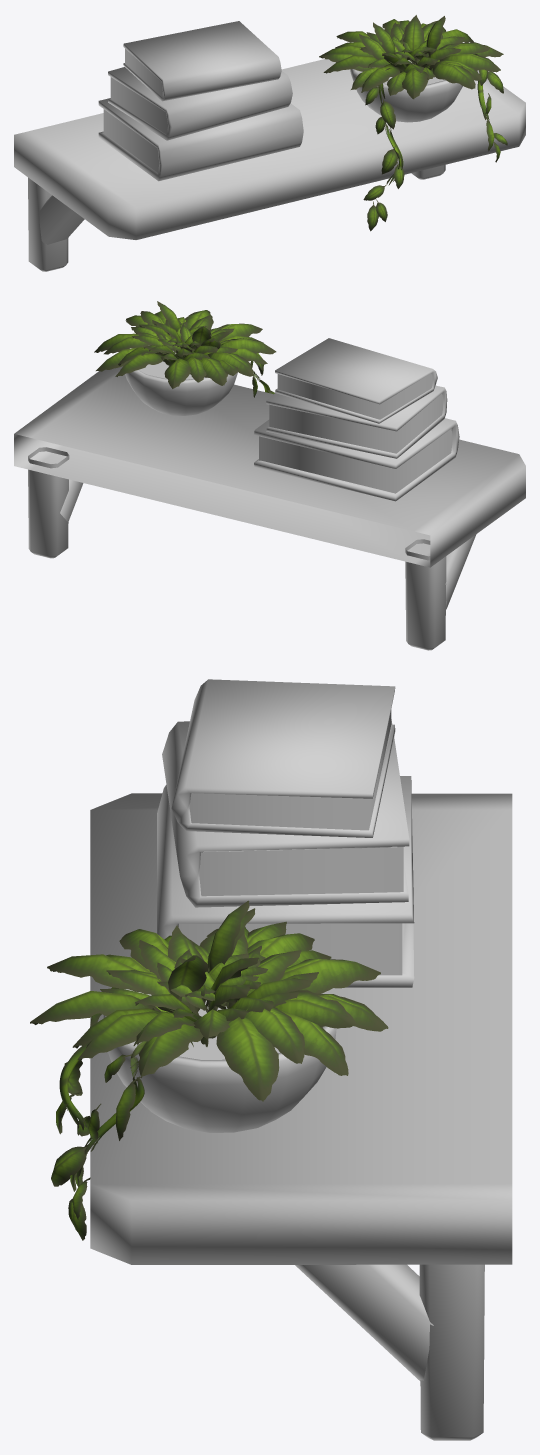
File: Estanteria2.fbx
The picture shows the model from 3 angles, top to bottom: view 1: azimuth 30°, elevation 25°; view 2: azimuth 150°, elevation 25°; view 3: azimuth 270°, elevation 25°; orthographic projection. The views are drawn at different scales.
Visible parts, largest first — view 1: Estanteria2; view 2: Estanteria2; view 3: Estanteria2.
Part boxes in pixels (bbox=[...]): Estanteria2: bbox=[14, 15, 525, 271]; Estanteria2: bbox=[14, 301, 525, 650]; Estanteria2: bbox=[30, 679, 512, 1440].
Bounding box in the file's own units: 282 × 140 × 142.
